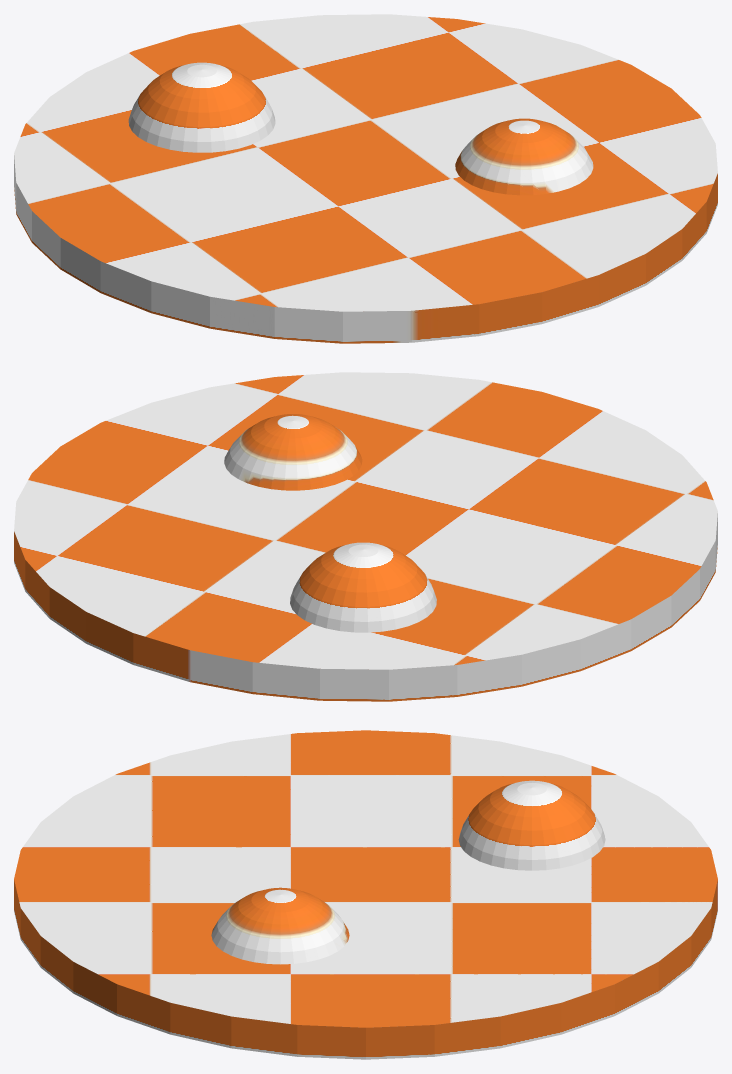
The model's file is platform.fbx.
3 renders of one model, top to bottom at view 1: azimuth 30°, elevation 25°; view 2: azimuth 150°, elevation 25°; view 3: azimuth 270°, elevation 25°, orthographic.
Visible parts, largest first — view 1: Cylinder; view 2: Cylinder; view 3: Cylinder.
Part boxes in pixels (x1=…): Cylinder: x1=14, y1=14, x2=717, y2=343; Cylinder: x1=14, y1=372, x2=717, y2=701; Cylinder: x1=14, y1=730, x2=717, y2=1059.
Bounding box in the file's own units: 200 × 26.29 × 200.
